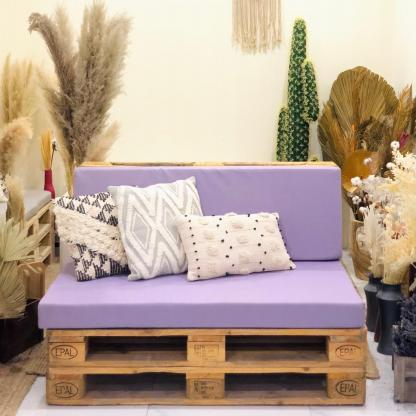BoxFace: (41, 328, 367, 373), (43, 371, 366, 407)
